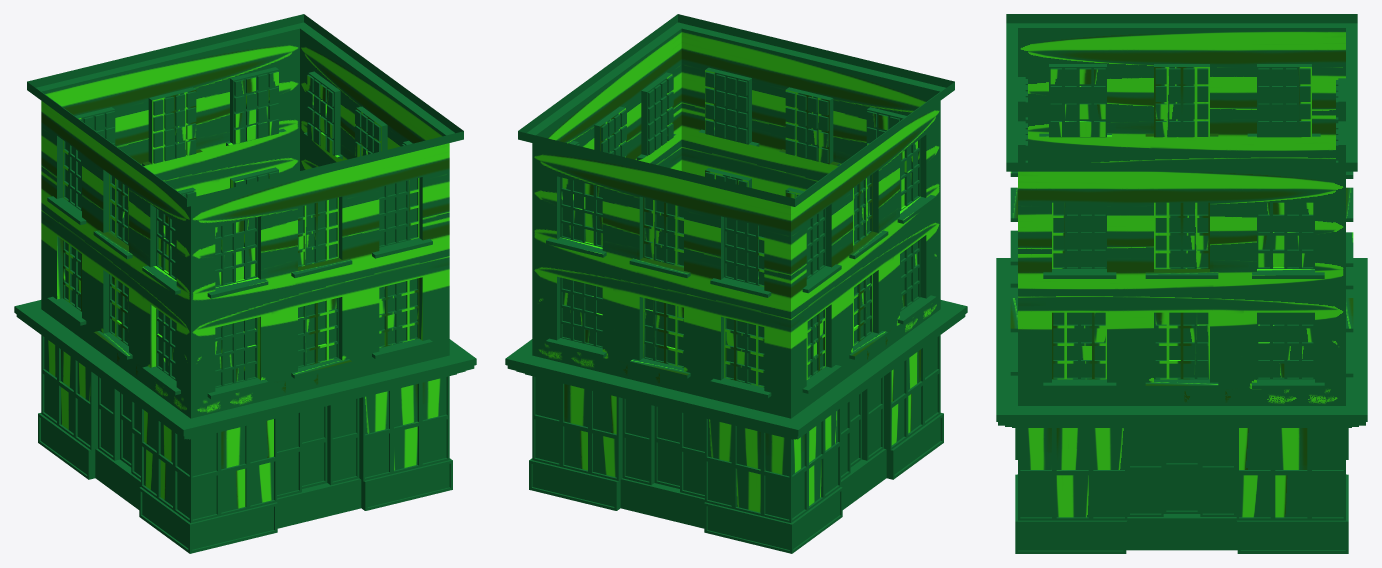
The model's file is building.obj.
The picture shows the model from 3 angles, left to right: view 1: azimuth 30°, elevation 25°; view 2: azimuth 150°, elevation 25°; view 3: azimuth 270°, elevation 25°; orthographic projection. The views are drawn at different scales.
Parts seen in each view (by area): view 1: Object_4; view 2: Object_4; view 3: Object_4.
Boxes of the visible parts, x1,y1,x2,y2 form: Object_4: (14,14,476,553); Object_4: (505,14,967,553); Object_4: (996,14,1367,553).
Size of the model in its own units: 0.2574 by 0.3023 by 0.2574.
